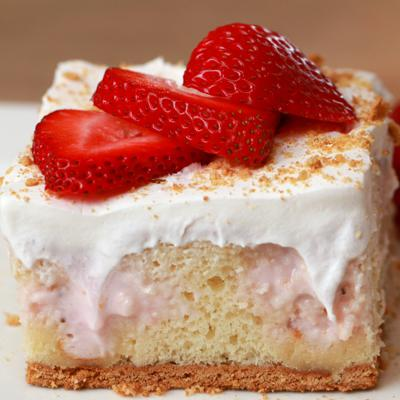cake: (6, 55, 393, 390)
